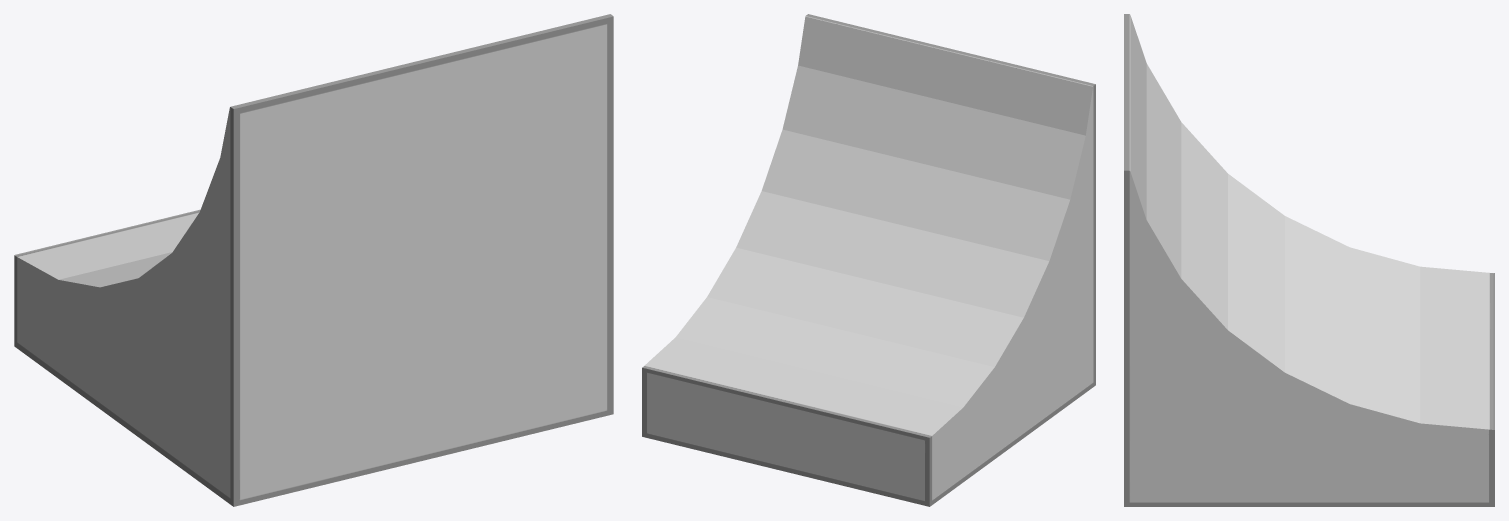
Rendered from slide.fbx.
3 renders of one model, left to right at view 1: azimuth 30°, elevation 25°; view 2: azimuth 150°, elevation 25°; view 3: azimuth 270°, elevation 25°, orthographic. The views are drawn at different scales.
Parts seen in each view (by area): view 1: slide kecil; view 2: slide kecil; view 3: slide kecil.
Boxes of the visible parts, left/top/right/bottom form: slide kecil: left=14, top=14, right=613, bottom=506; slide kecil: left=642, top=14, right=1095, bottom=506; slide kecil: left=1124, top=14, right=1494, bottom=506.
Size of the model in its own units: 300 by 300 by 300.
1 material, 1 textured.
